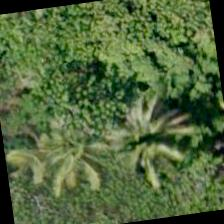Kelapa_Sawit: (19, 100, 121, 202), (94, 90, 196, 192)
